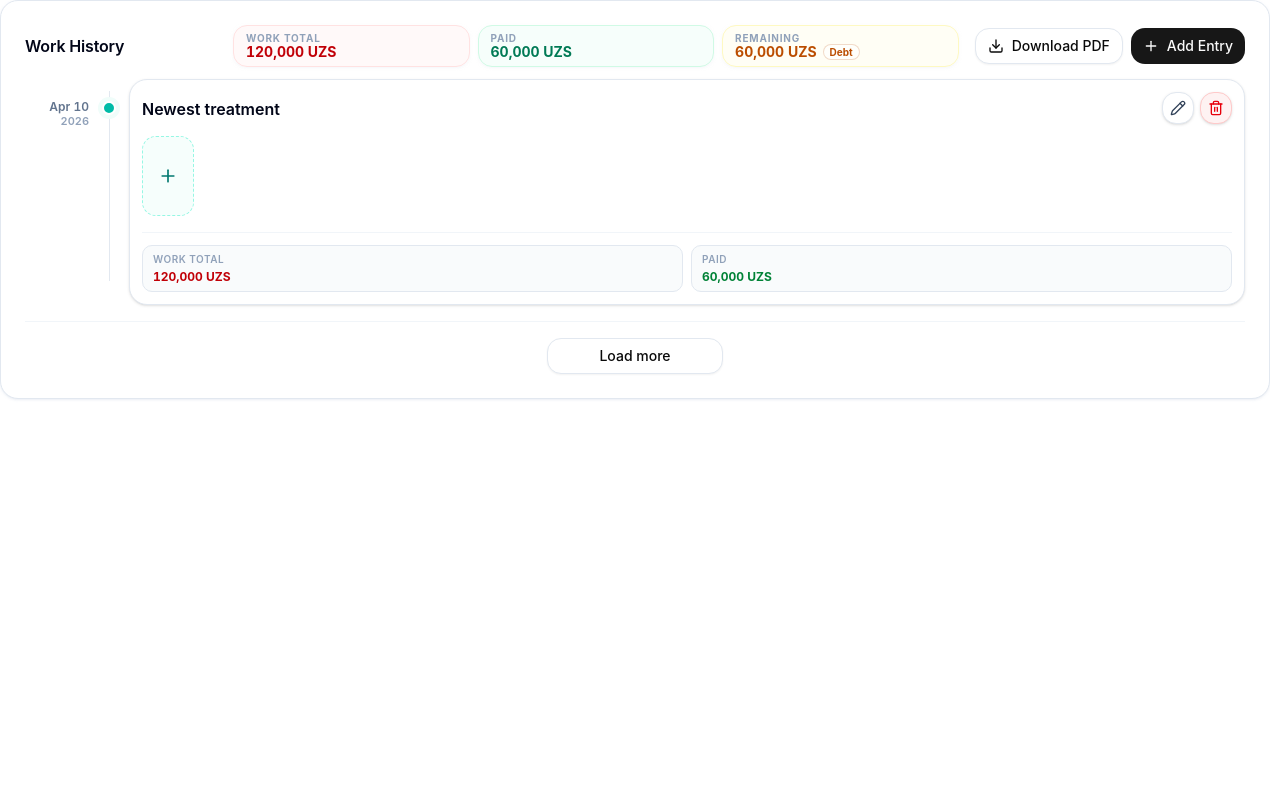
TreatmentHistoryCard image controls › loads the newest page first and fetches older entries on demand
Expected: the heading "Newest treatment" is shown, [142,99,280,119]
Step 1. Click the button "Load more" → (635, 356), box [547,338,723,374]
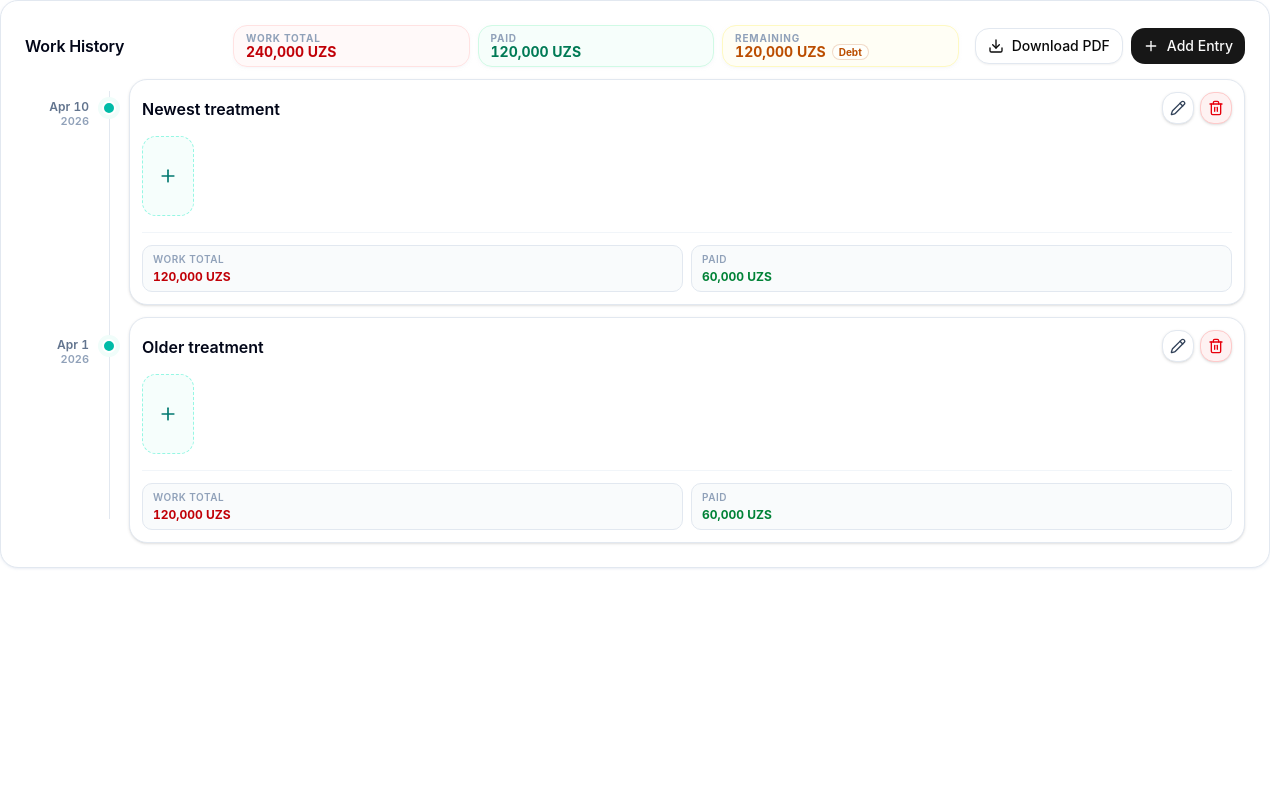
Result: the heading "Older treatment" is shown at [142,337,264,357]
